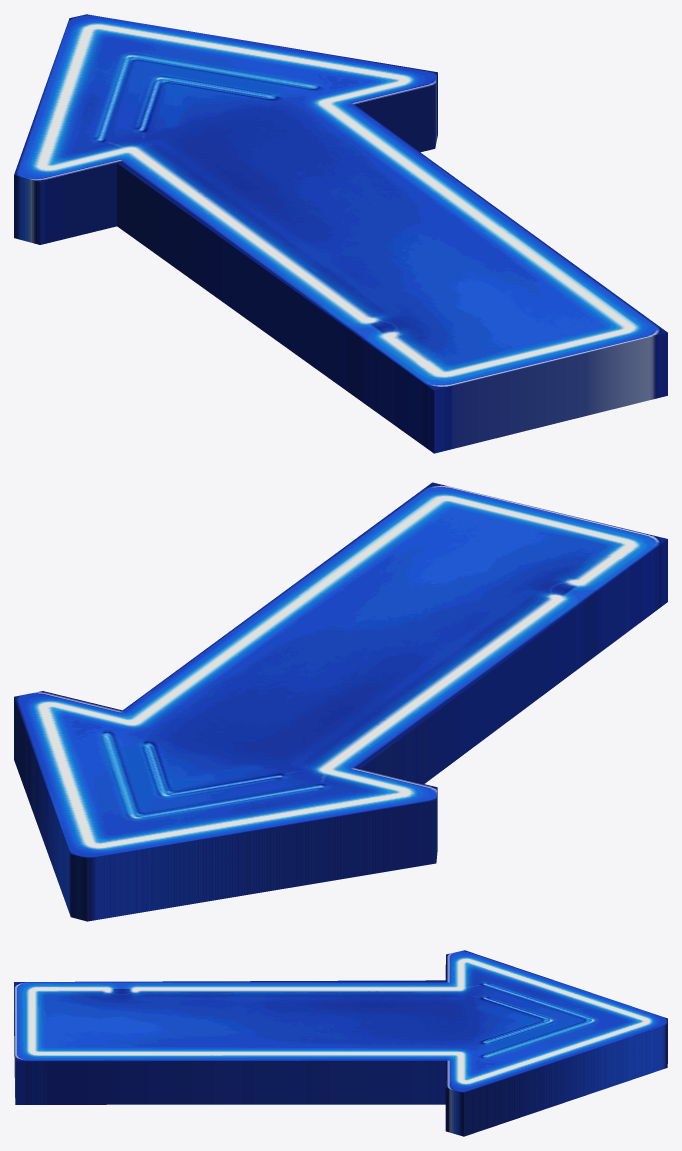
Rendered from Billboard_Arrow_FBX.fbx.
3 views of the same model, one above another, from view 1: azimuth 30°, elevation 25°; view 2: azimuth 150°, elevation 25°; view 3: azimuth 270°, elevation 25° (orthographic). The views are drawn at different scales.
Visible parts, largest first — view 1: pCube1; view 2: pCube1; view 3: pCube1.
Part boxes in pixels (x1=…): pCube1: x1=14, y1=14, x2=667, y2=453; pCube1: x1=14, y1=482, x2=667, y2=921; pCube1: x1=14, y1=950, x2=667, y2=1136.
Bounding box in the file's own units: 1.38 × 0.1969 × 2.68.
Materials: 1 (1 with a texture image).
